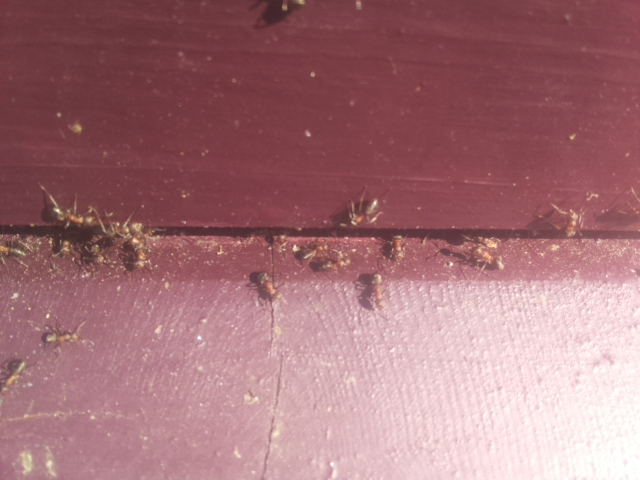ant: (245, 262, 291, 312), (36, 197, 98, 231), (247, 0, 310, 33), (342, 191, 386, 232), (37, 325, 97, 352), (0, 356, 31, 400), (469, 244, 504, 272), (368, 267, 387, 315), (560, 204, 582, 245), (128, 235, 151, 270), (50, 238, 73, 259), (0, 246, 30, 257)
